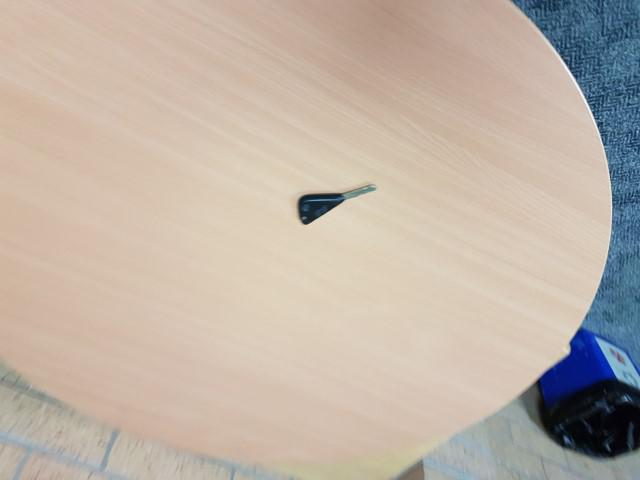key: (299, 183, 377, 225)
